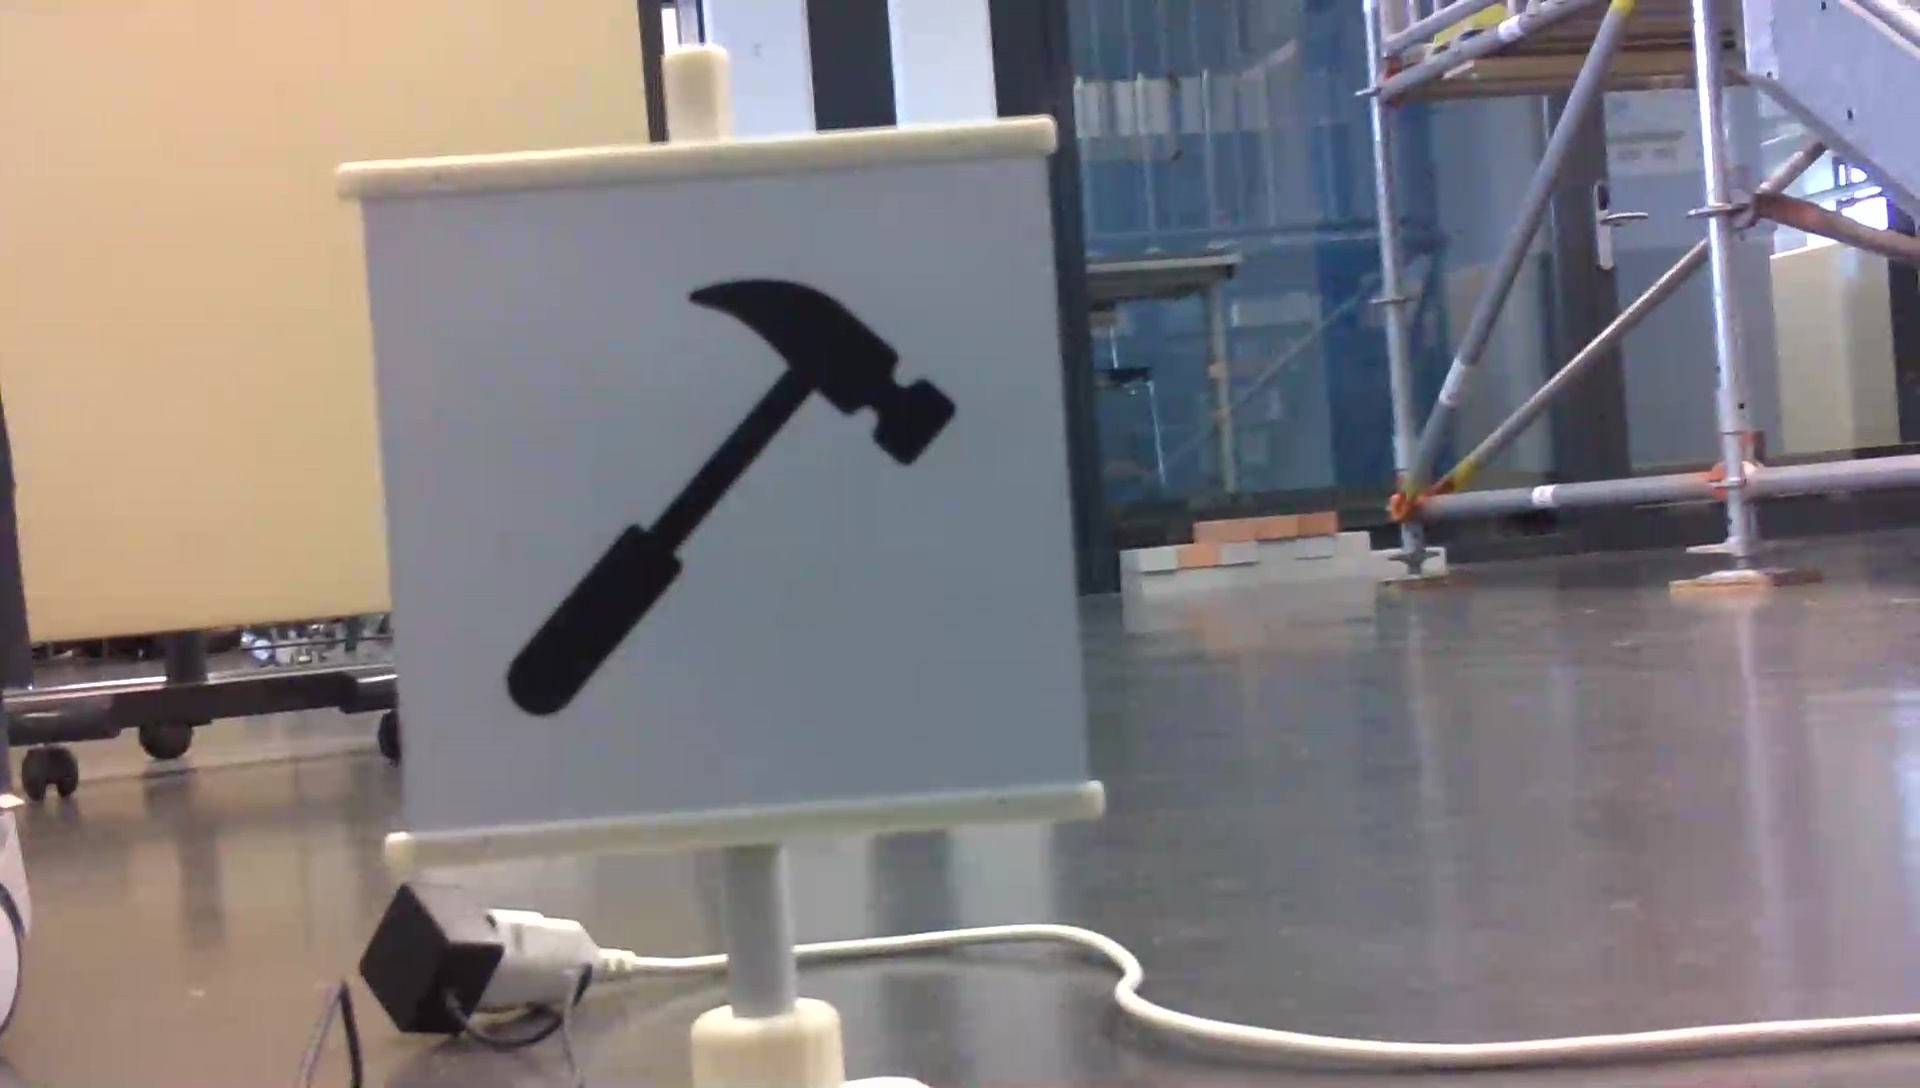hammer: (488, 268, 963, 725)
